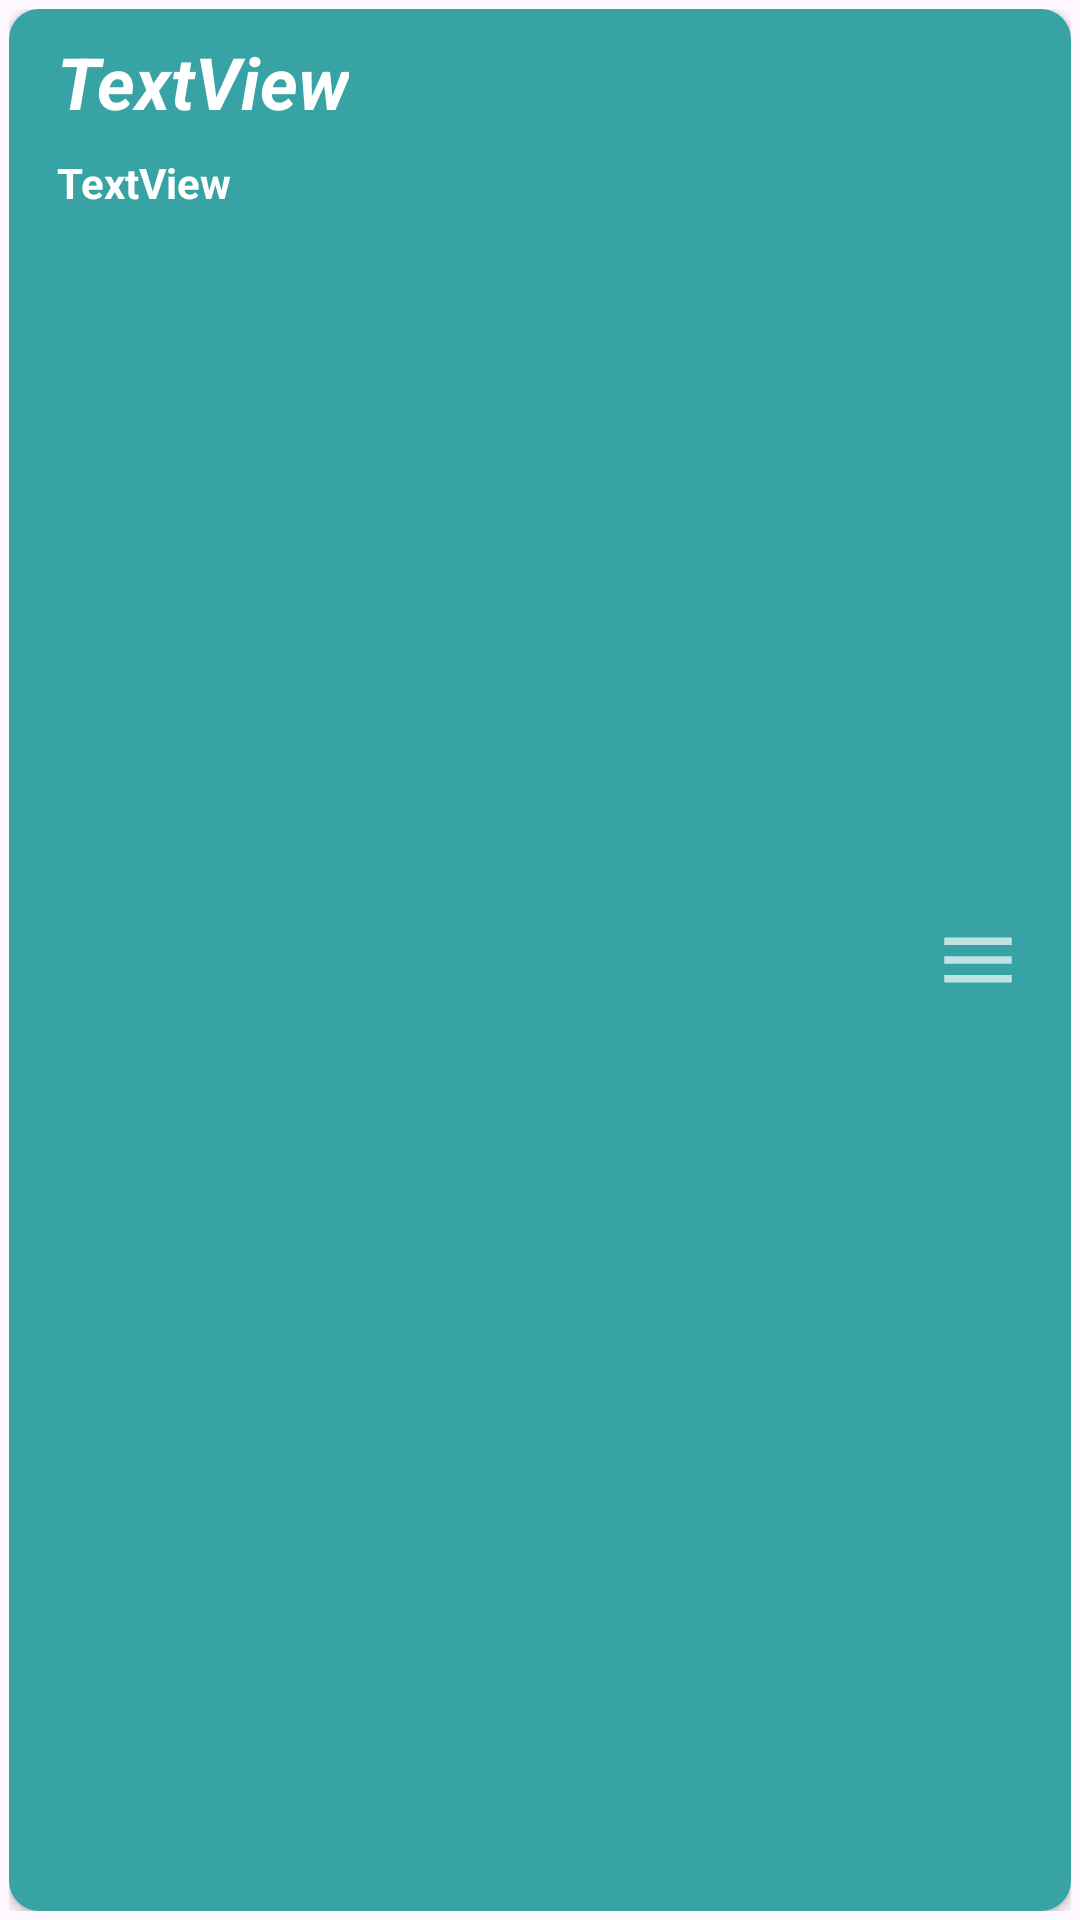

Icon bounding boxes for this 1080px×1920px phone screenshot, format bbox=(x1, y1, x2, y2):
menu: bbox=(944, 937, 1012, 983)
